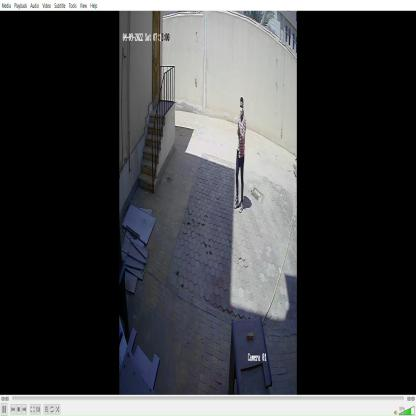handgun: (235, 110, 242, 146)
